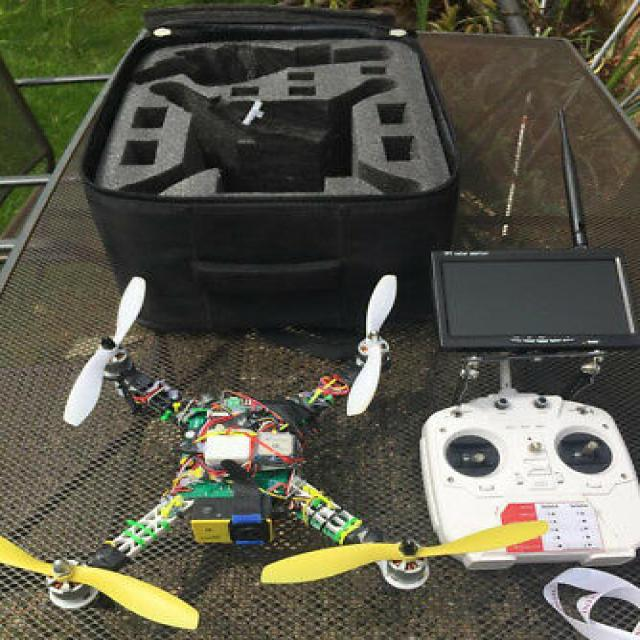drone: (6, 280, 567, 618)
